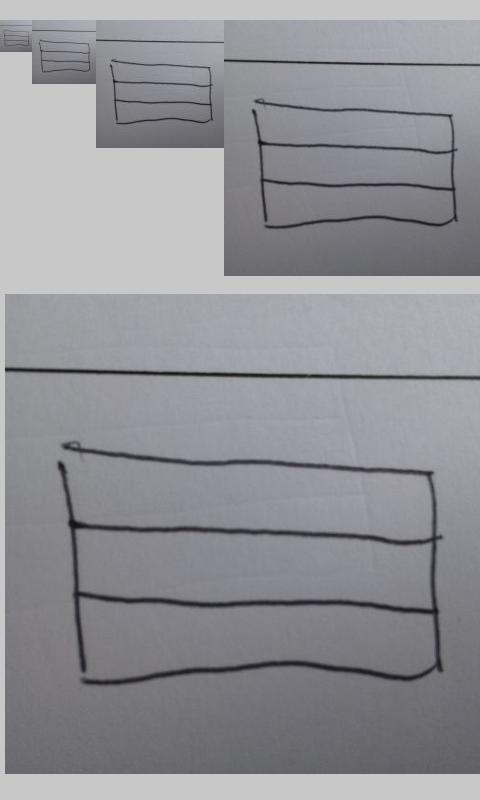list_view: (57, 442, 447, 690), (252, 99, 459, 231), (110, 59, 214, 125), (39, 39, 91, 73), (4, 30, 30, 47)
